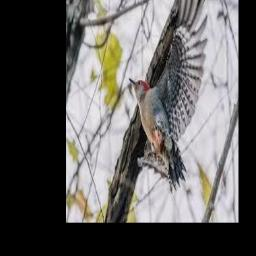Woodpecker: (129, 0, 207, 191)
